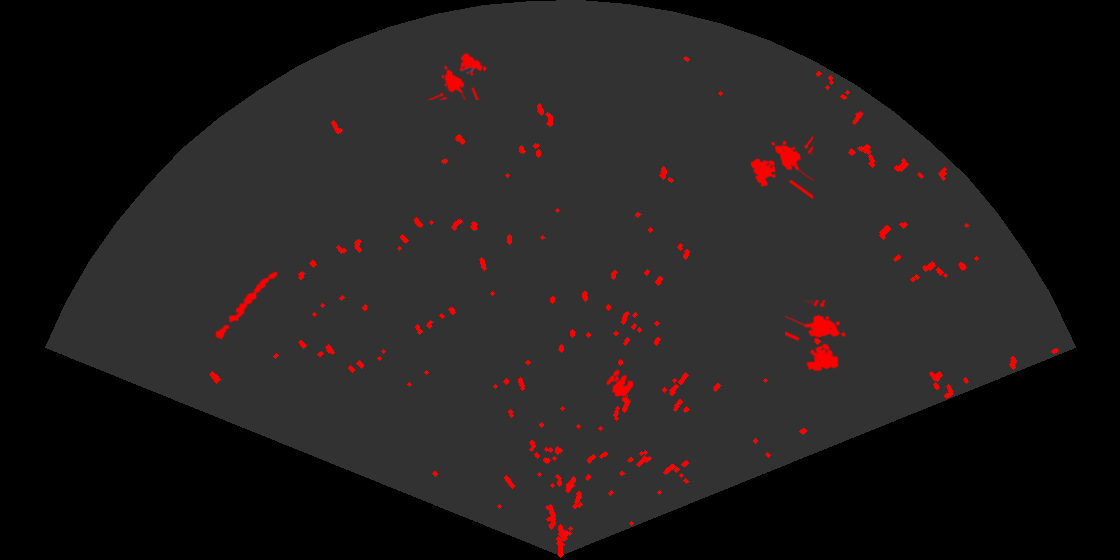ball: (605, 369, 635, 398)
cage: (785, 300, 848, 373), (749, 134, 813, 201), (427, 51, 485, 100)
chain: (209, 270, 280, 345)
